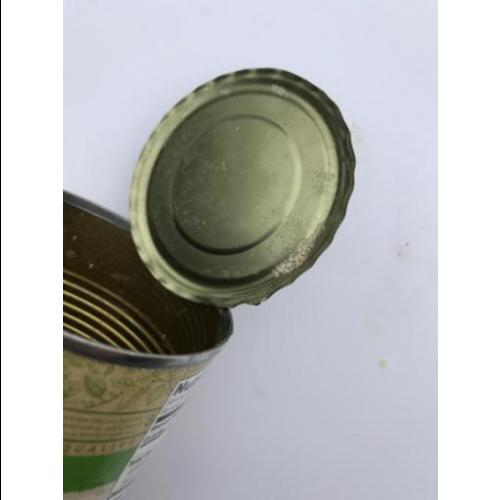metal: (60, 190, 233, 500)
